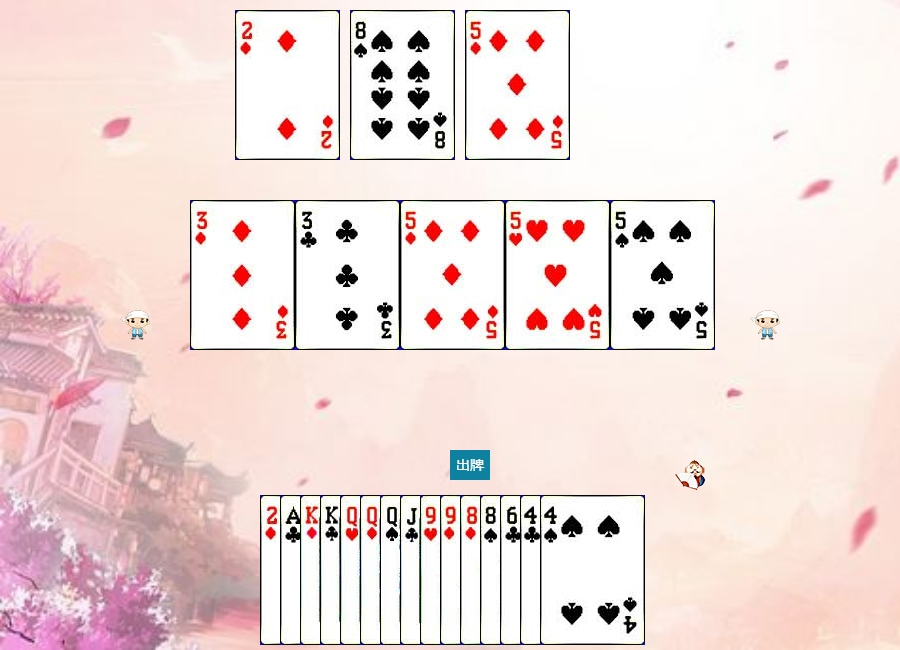11~2: (400, 495, 505, 645)
12~1: (360, 495, 465, 645)
12~3: (340, 495, 445, 645)
12~4: (380, 495, 485, 645)
13~1: (300, 495, 405, 645)
13~2: (320, 495, 425, 645)
14~2: (280, 495, 385, 645)
15~1: (235, 10, 340, 160), (260, 495, 365, 645)
3~1: (190, 200, 295, 350)
3~2: (295, 200, 400, 350)
4~2: (520, 495, 625, 645)
4~4: (540, 495, 645, 645)
5~1: (465, 10, 570, 160), (400, 200, 505, 350)
5~3: (505, 200, 610, 350)
5~4: (610, 200, 715, 350)
6~2: (500, 495, 605, 645)
8~1: (460, 495, 565, 645)
8~4: (350, 10, 455, 160), (480, 495, 585, 645)
9~1: (440, 495, 545, 645)
9~3: (420, 495, 525, 645)
